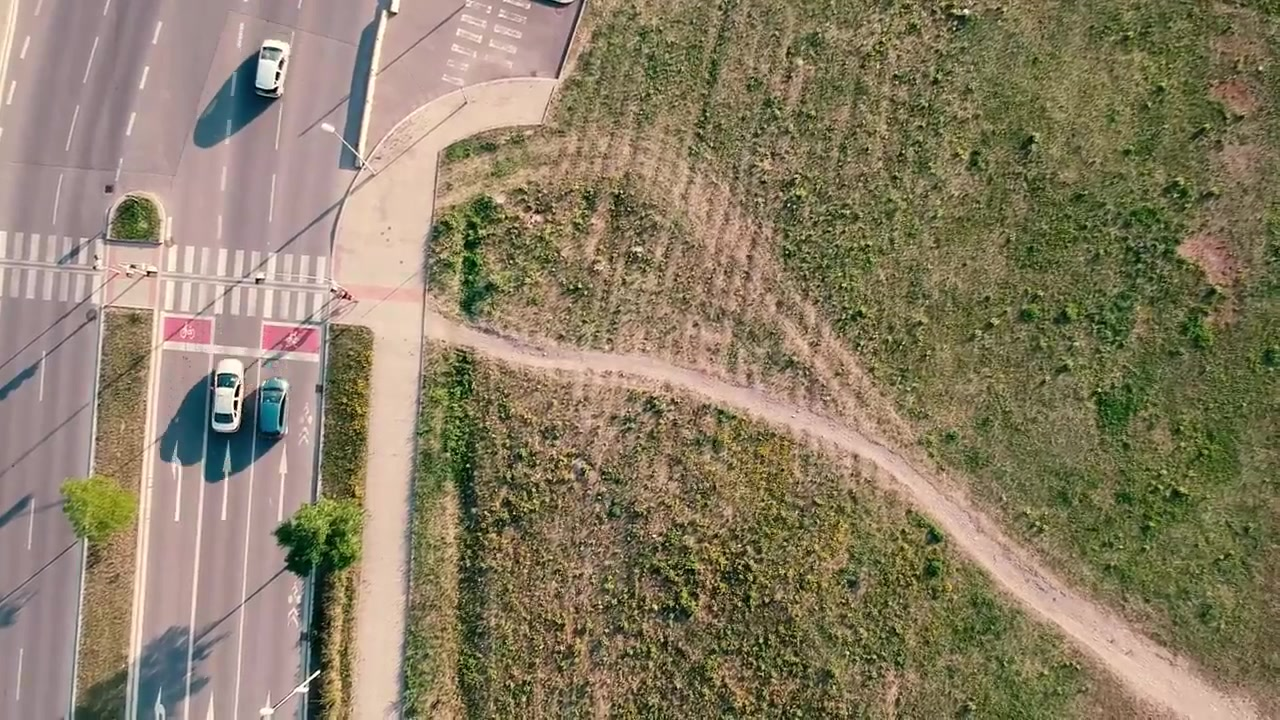car: (207, 356, 245, 435), (253, 39, 291, 100), (257, 377, 289, 440)
